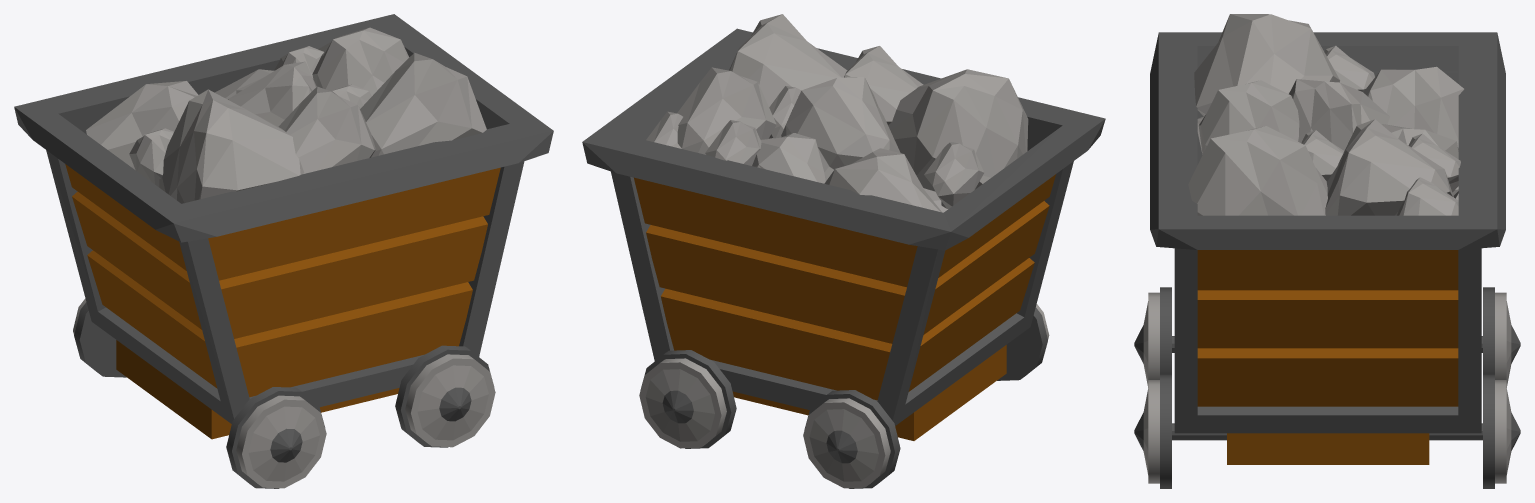
File: MinecartIron.fbx
3 renders of one model, left to right at view 1: azimuth 30°, elevation 25°; view 2: azimuth 150°, elevation 25°; view 3: azimuth 270°, elevation 25°, orthographic. The views are drawn at different scales.
Parts seen in each view (by area): view 1: Box429; view 2: Box429; view 3: Box429.
Part boxes in pixels (<box>): Box429: <box>14,14,553,488</box>; Box429: <box>582,14,1105,488</box>; Box429: <box>1134,14,1520,488</box>.
Bounding box in the file's own units: 64.06 × 57 × 53.14.
